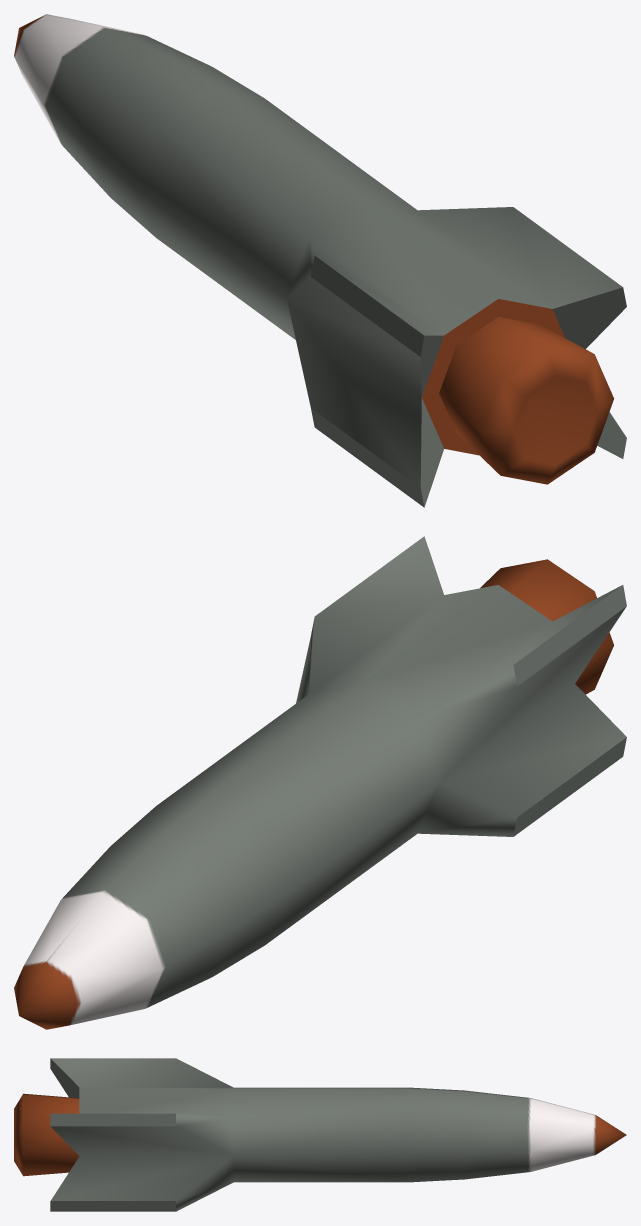
Rendered from Rocket.fbx.
3 views of the same model, one above another, from view 1: azimuth 30°, elevation 25°; view 2: azimuth 150°, elevation 25°; view 3: azimuth 270°, elevation 25° (orthographic). The views are drawn at different scales.
Visible parts, largest first — view 1: polySurface19; view 2: polySurface19; view 3: polySurface19.
Part boxes in pixels (x1=…): polySurface19: x1=14, y1=14, x2=626, y2=507; polySurface19: x1=14, y1=536, x2=626, y2=1029; polySurface19: x1=14, y1=1058, x2=626, y2=1211.
Size of the model in its own units: 0.5236 by 0.4171 by 2.36.
Materials: 1 (1 with a texture image).
